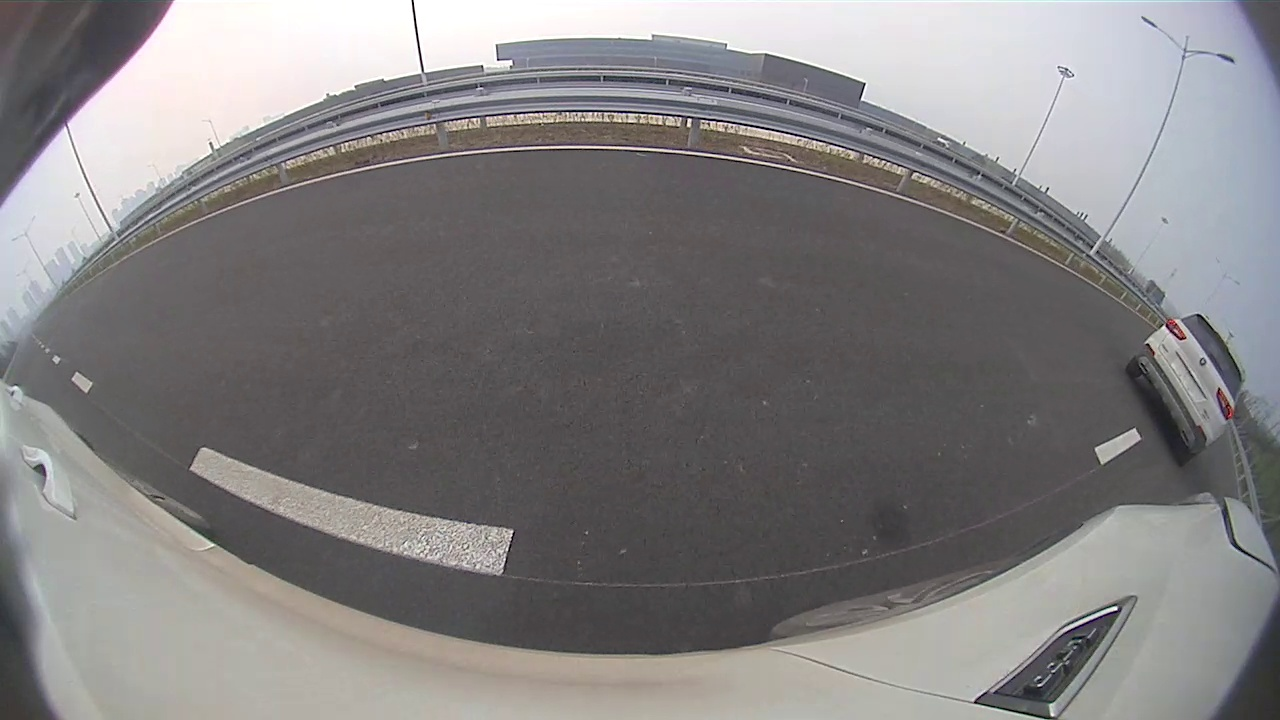car: (1126, 312, 1244, 465)
